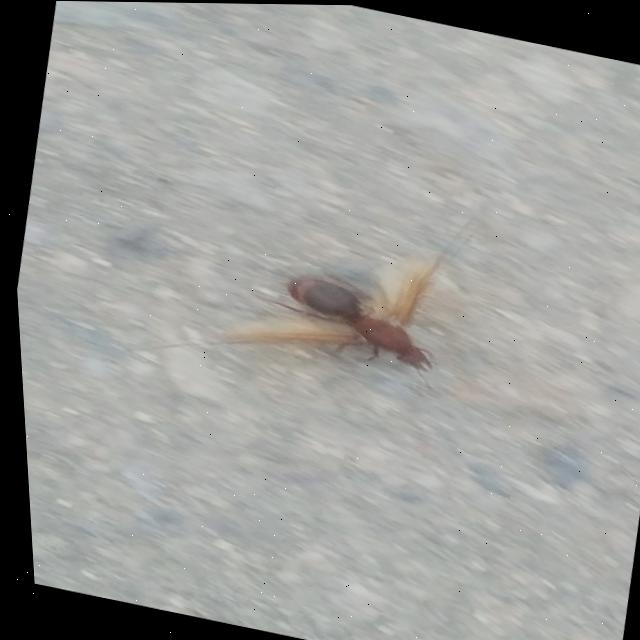Alive-Female-Alate: (210, 216, 457, 391)
